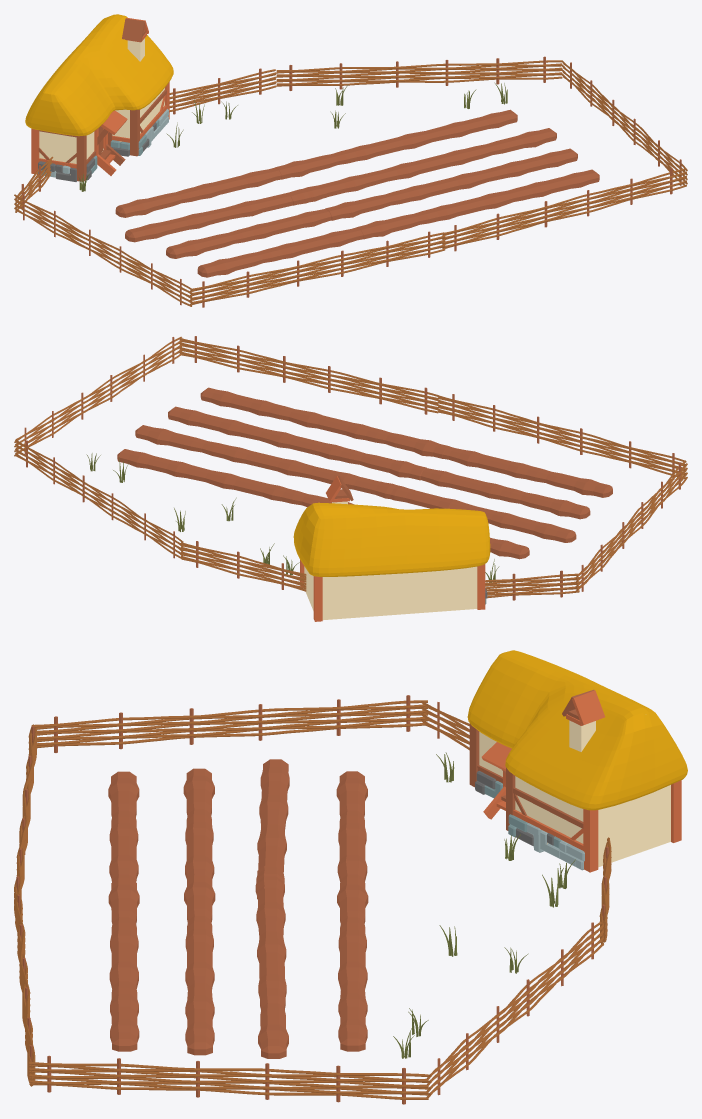
File: farm.gltf
3 renders of one model, top to bottom at view 1: azimuth 30°, elevation 25°; view 2: azimuth 150°, elevation 25°; view 3: azimuth 270°, elevation 25°, orthographic. The views are drawn at different scales.
Parts seen in each view (by area): view 1: soil_beds, fence, hovel, grass_mesh; view 2: soil_beds, hovel, fence, grass_mesh; view 3: hovel, soil_beds, fence, grass_mesh.
Part boxes in pixels (bbox=[...]): soil_beds: bbox=[115, 109, 599, 277]; fence: bbox=[14, 56, 687, 307]; hovel: bbox=[25, 14, 173, 181]; grass_mesh: bbox=[78, 82, 507, 191]; soil_beds: bbox=[117, 387, 612, 559]; hovel: bbox=[293, 476, 490, 621]; fence: bbox=[14, 336, 687, 600]; grass_mesh: bbox=[86, 453, 499, 582]; hovel: bbox=[467, 650, 687, 872]; soil_beds: bbox=[108, 759, 368, 1058]; fence: bbox=[14, 695, 611, 1104]; grass_mesh: bbox=[393, 752, 575, 1058].
Size of what is drawn, in the model's own units: 31.96 by 6.52 by 24.2.
Materials: 1 (1 with a texture image).
